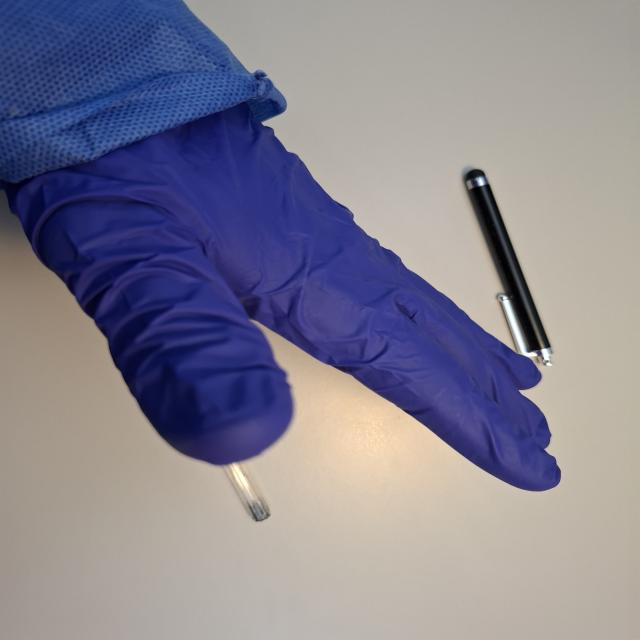glove_on: (4, 90, 568, 493)
